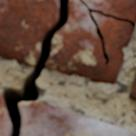brick: (129, 78, 135, 99)
broken_brick: (46, 0, 135, 84), (20, 100, 135, 135), (0, 0, 57, 67), (85, 0, 135, 21), (0, 91, 9, 135)
crack: (1, 0, 71, 135), (77, 0, 135, 66), (121, 46, 124, 51)
